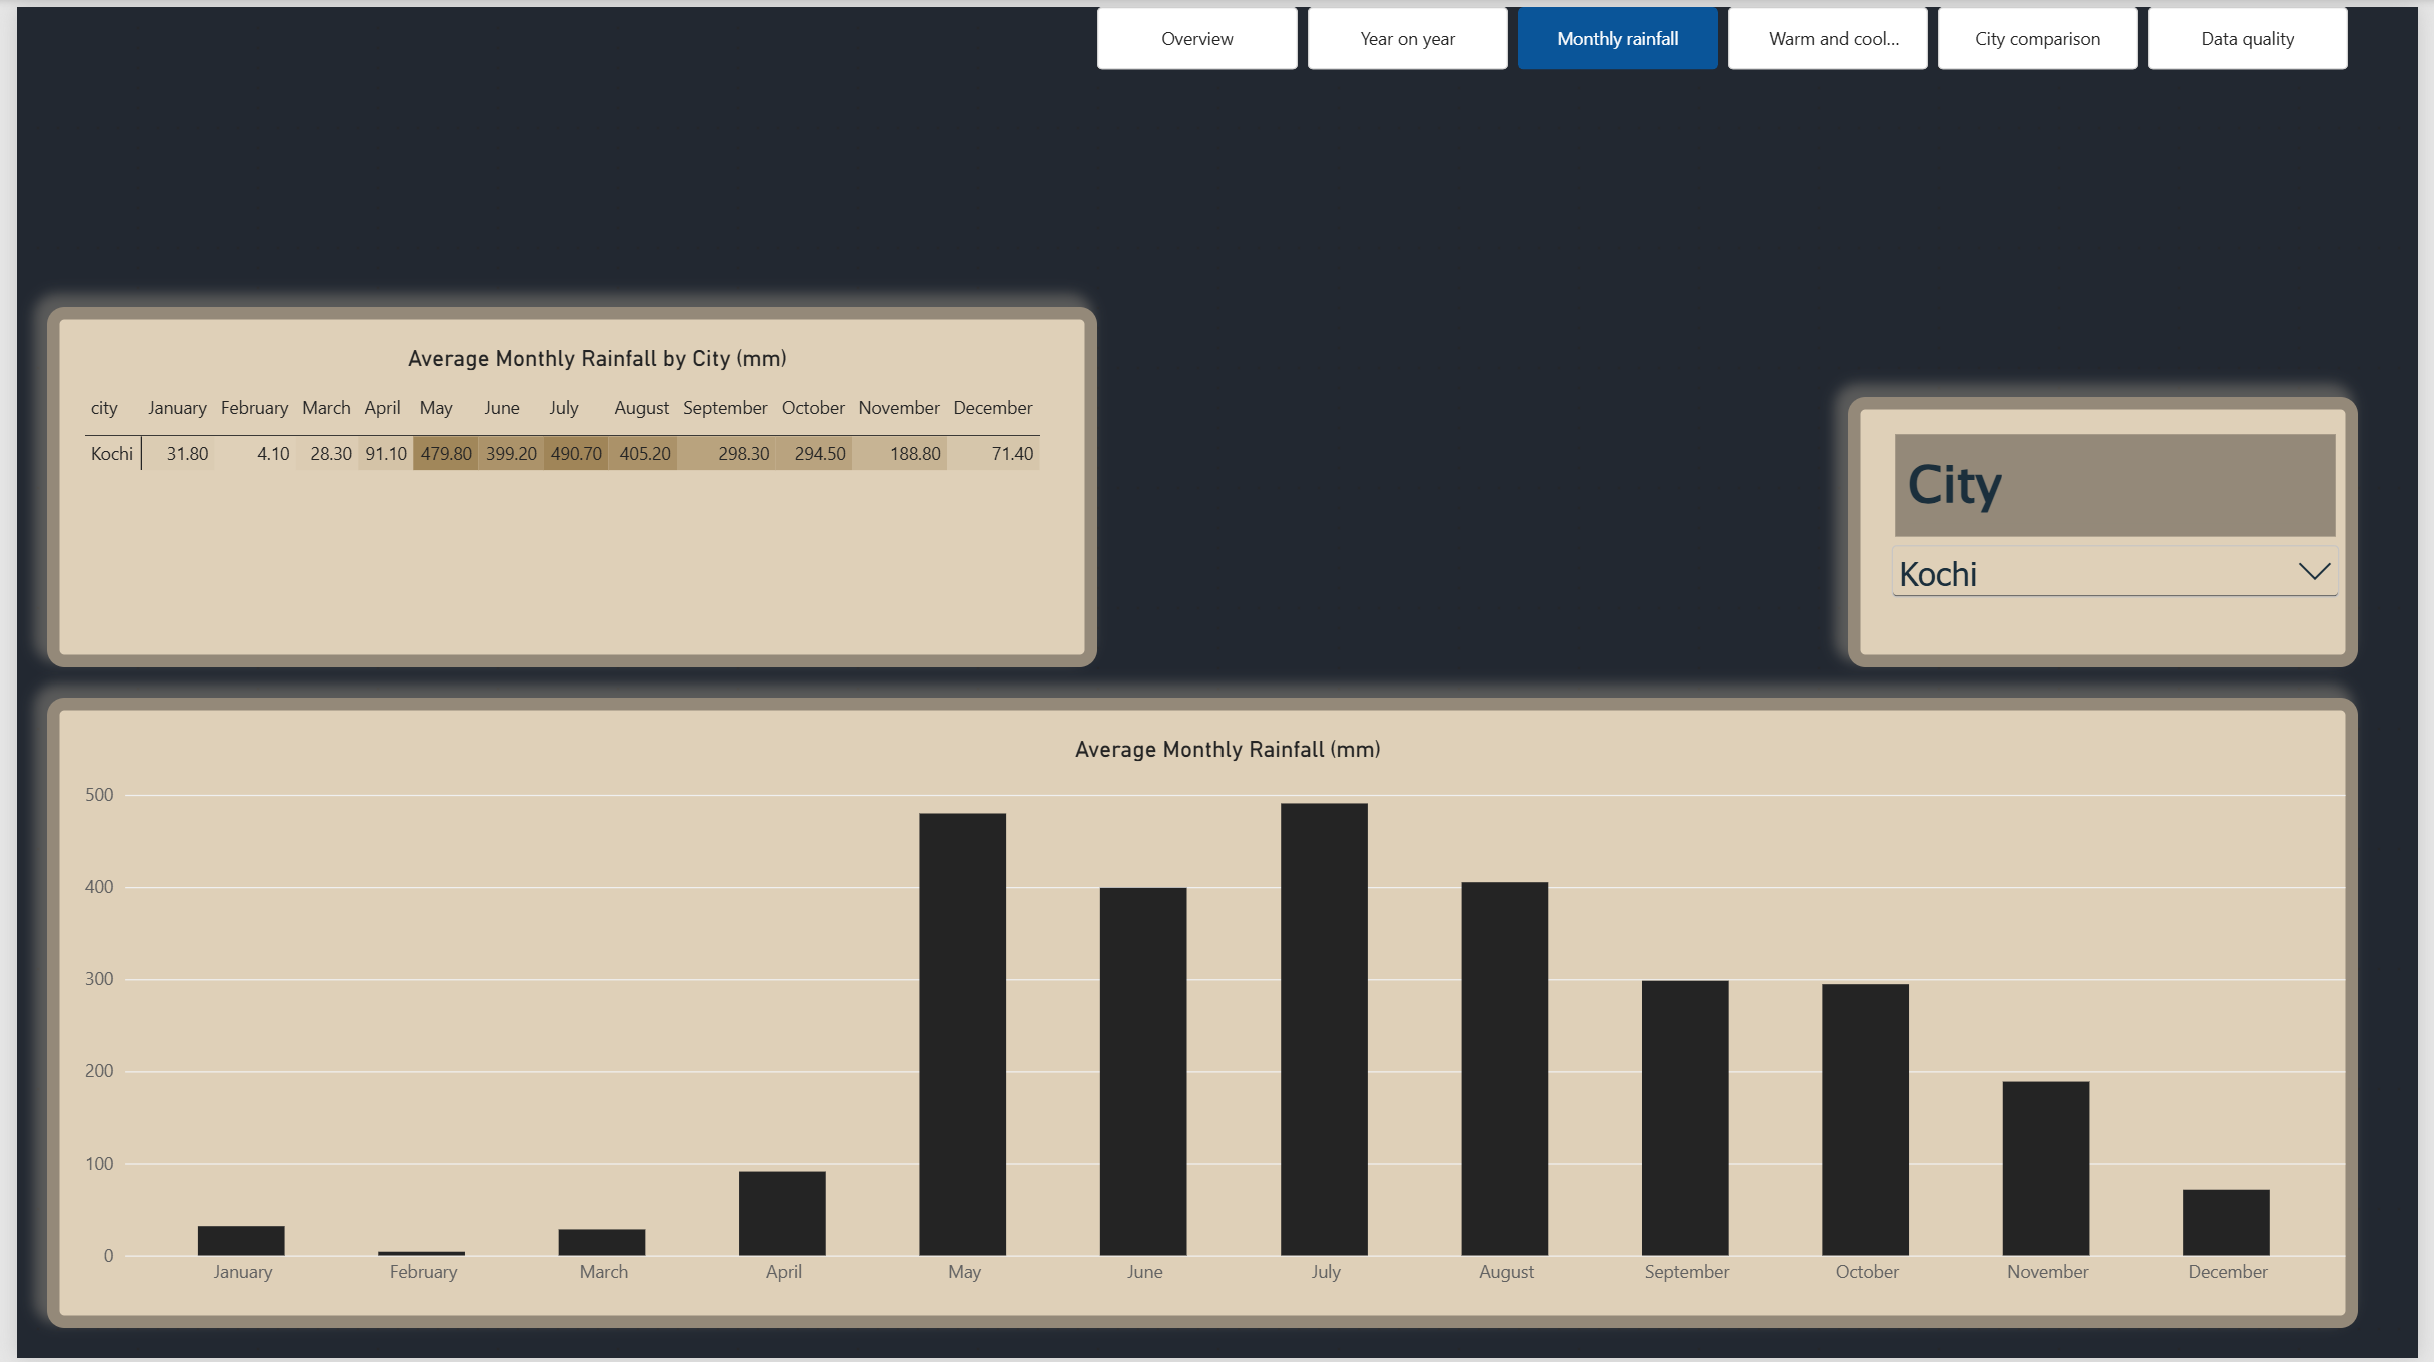

Layout of this report page (visuals, bound fields, positions):
{"tool":"powerbi","page":{"name":"Monthly rainfall","canvas":[1920,1080],"ordinal":2},"visuals":[{"type":"slicer","fields":{"Values":["dim_city.city"]},"box":[1464,312,408,216],"z":0},{"type":"columnChart","title":"Average Monthly Rainfall (mm)","fields":{"Category":["vw_monthly_rainfall_climatology.month_name"],"Y":["Sum(vw_monthly_rainfall_climatology.avg_monthly_rain_mm)"]},"box":[24,552,1848,504],"z":1000},{"type":"pivotTable","title":"Average Monthly Rainfall by City (mm)","fields":{"Columns":["vw_monthly_rainfall_climatology.month_name"],"Rows":["dim_city.city"],"Values":["Sum(vw_monthly_rainfall_climatology.avg_monthly_rain_mm)"]},"box":[24,240,840,288],"z":2000},{"type":"pageNavigator","box":[864,0,1000,50],"z":3000}]}

Visuals, with their boxes in screenshot pixels (x1, y1, x2, y2), scaled from the page's 1920x1080 canvas onto the 2434x1362 screenshot:
slicer - dim_city.city: BBox(1856, 393, 2373, 666)
"Average Monthly Rainfall (mm)" columnChart: BBox(30, 696, 2373, 1332)
"Average Monthly Rainfall by City (mm)" pivotTable: BBox(30, 303, 1095, 666)
pageNavigator: BBox(1095, 0, 2363, 63)
